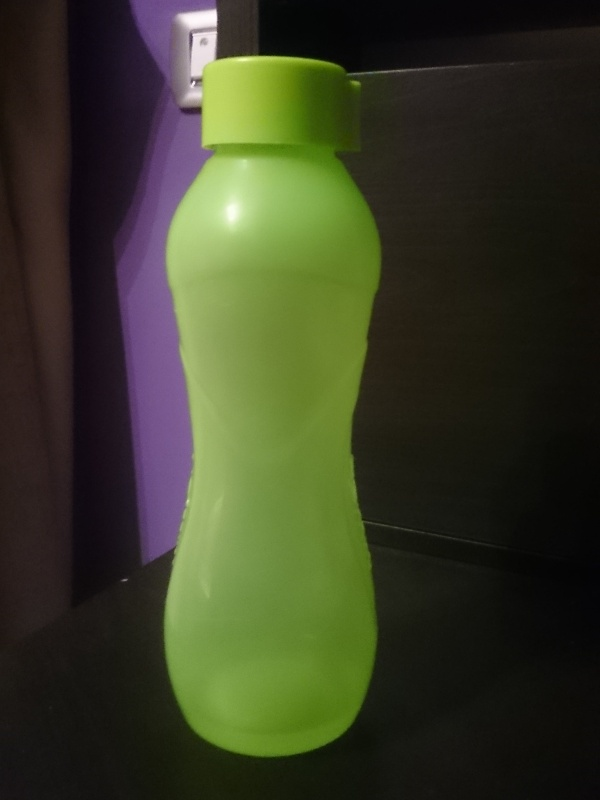my bottle: (162, 57, 380, 757)
